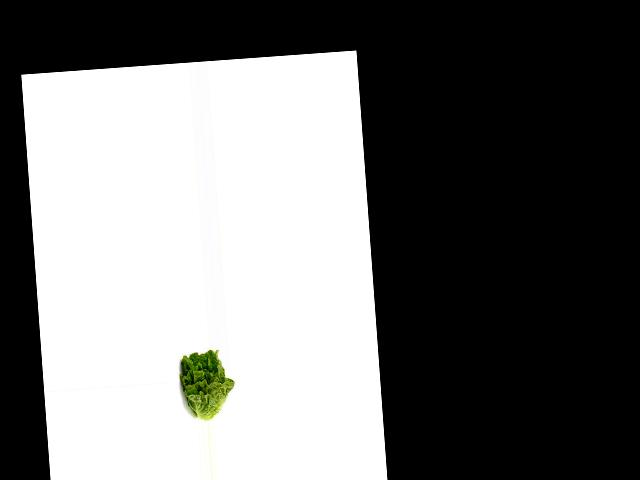lettuce: (174, 349, 235, 422)
